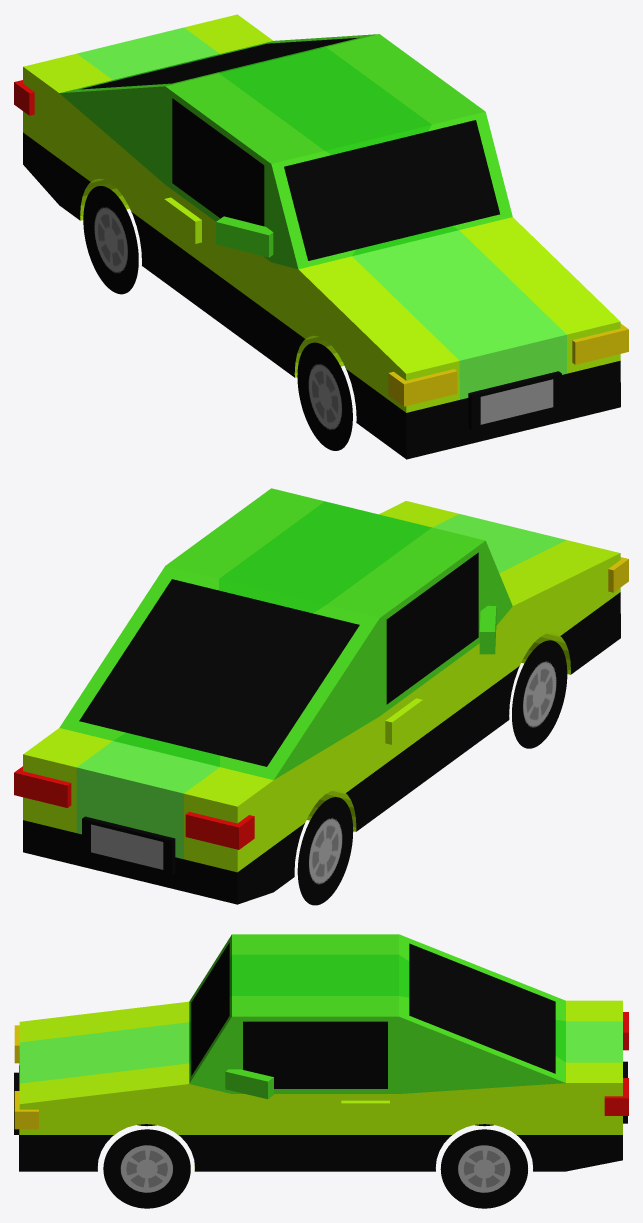
File: Mobil_3_Hijau_D.fbx
3 views of the same model, one above another, from view 1: azimuth 30°, elevation 25°; view 2: azimuth 150°, elevation 25°; view 3: azimuth 270°, elevation 25° (orthographic). The views are drawn at different scales.
Parts seen in each view (by area): view 1: Mobil2.002; view 2: Mobil2.002; view 3: Mobil2.002.
Boxes of the visible parts, bbox=[...] form: Mobil2.002: bbox=[14, 14, 628, 459]; Mobil2.002: bbox=[14, 488, 628, 905]; Mobil2.002: bbox=[14, 934, 628, 1208].
Bounding box in the file's own units: 521 × 435 × 1261.
Materials: 5 (3 with a texture image).
